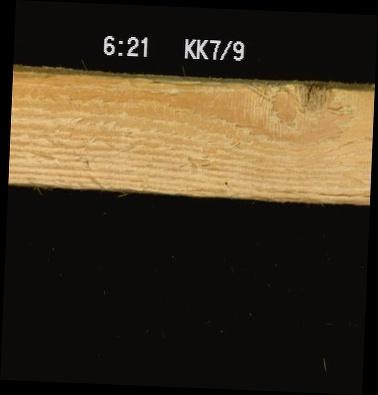edge_knot: (288, 82, 358, 122)
split: (147, 79, 228, 89)
